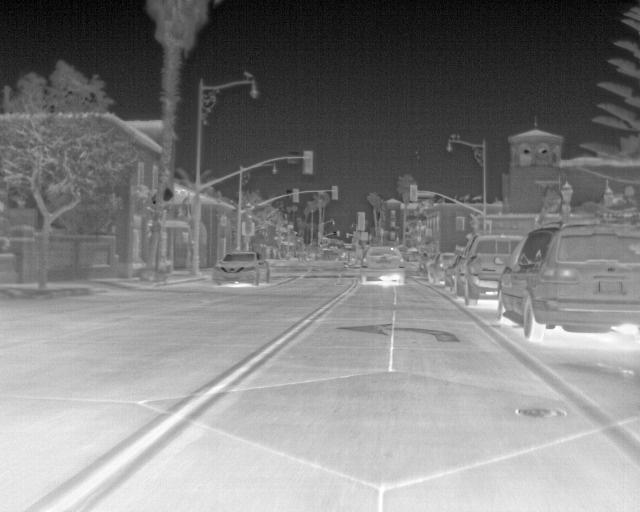bicycle: (492, 221, 637, 340), (462, 229, 523, 300), (211, 249, 270, 288), (357, 244, 408, 286), (429, 252, 461, 285), (445, 253, 467, 297)
